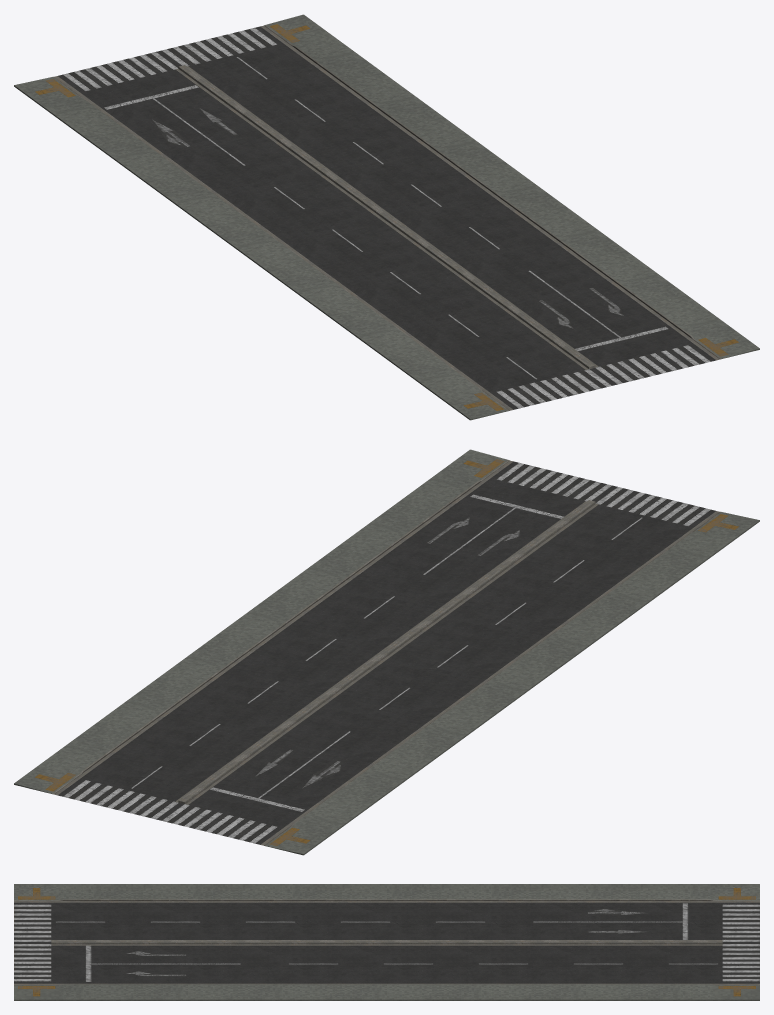
The model's file is jctlowRoad22mA_d.fbx.
3 renders of one model, top to bottom at view 1: azimuth 30°, elevation 25°; view 2: azimuth 150°, elevation 25°; view 3: azimuth 270°, elevation 25°, orthographic. The views are drawn at different scales.
Parts seen in each view (by area): view 1: jctlowRoad22mA_d; view 2: jctlowRoad22mA_d; view 3: jctlowRoad22mA_d.
Boxes of the visible parts, bbox=[...] form: jctlowRoad22mA_d: bbox=[14, 14, 759, 420]; jctlowRoad22mA_d: bbox=[14, 449, 759, 855]; jctlowRoad22mA_d: bbox=[14, 884, 759, 1000].
Bounding box in the file's own units: 2200 × 15 × 6000.
Materials: 3 (3 with a texture image).
